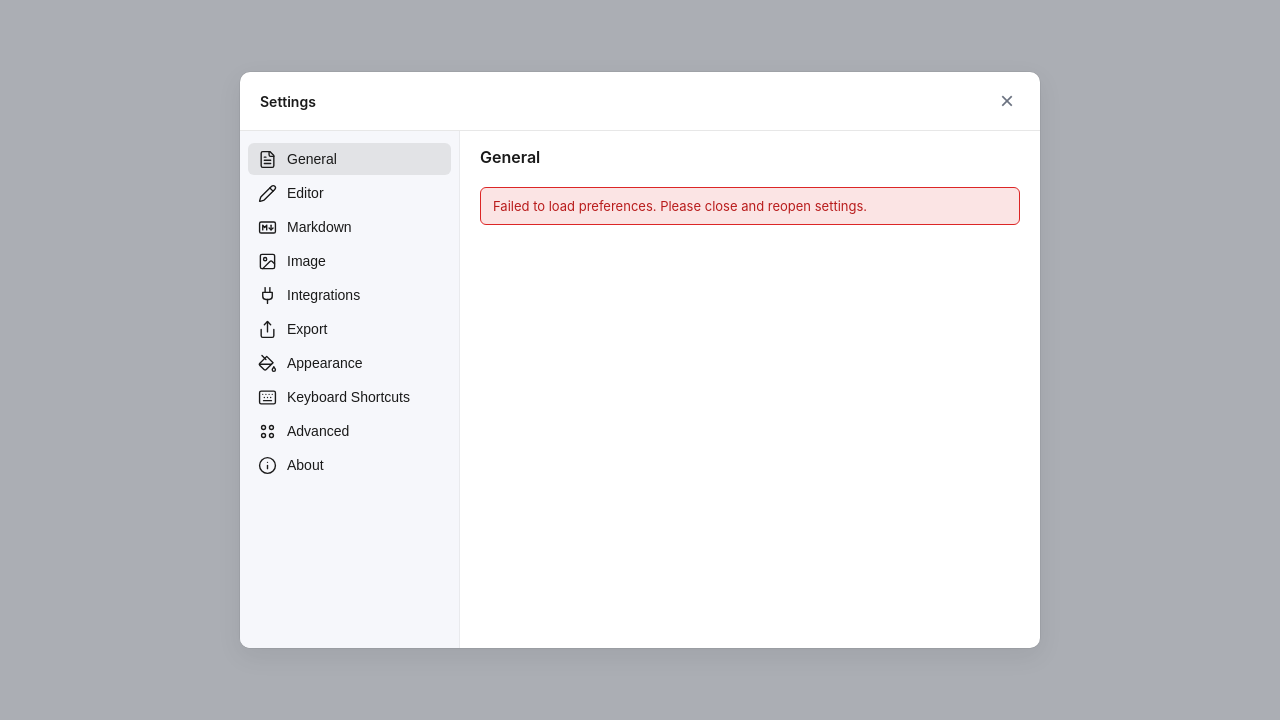
it: D25-1 corrupt config: the switch mirrors the server and one note is shown › config failed + status fetch failed: switch unchecked, lock paragraph still shown and describes it
Step 1. Click the button "Integrations" → (350, 295), box [248, 279, 451, 311]
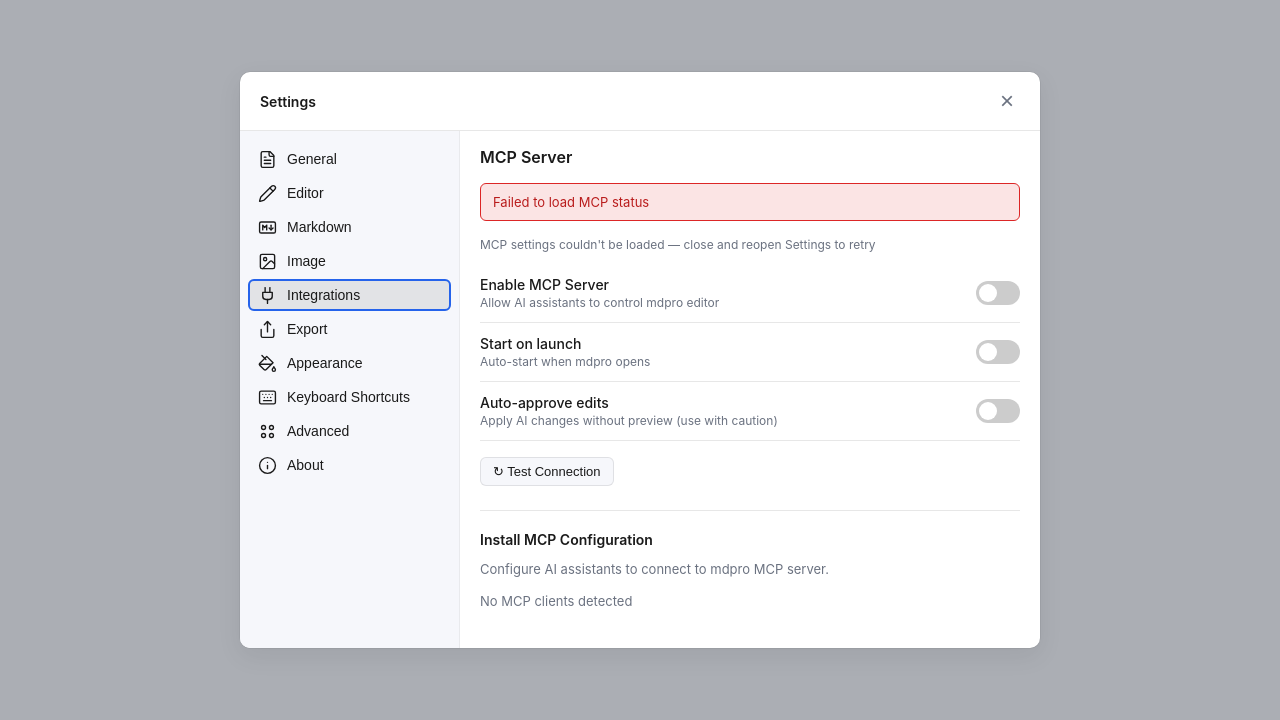
Expected: the text "MCP settings couldn't be loaded" is shown, [480, 237, 876, 252]
Expected: the switch labelled "Enable MCP Server" is not checked, [976, 281, 1020, 305]
Expected: the switch labelled "Enable MCP Server" is disabled, [976, 281, 1020, 305]
